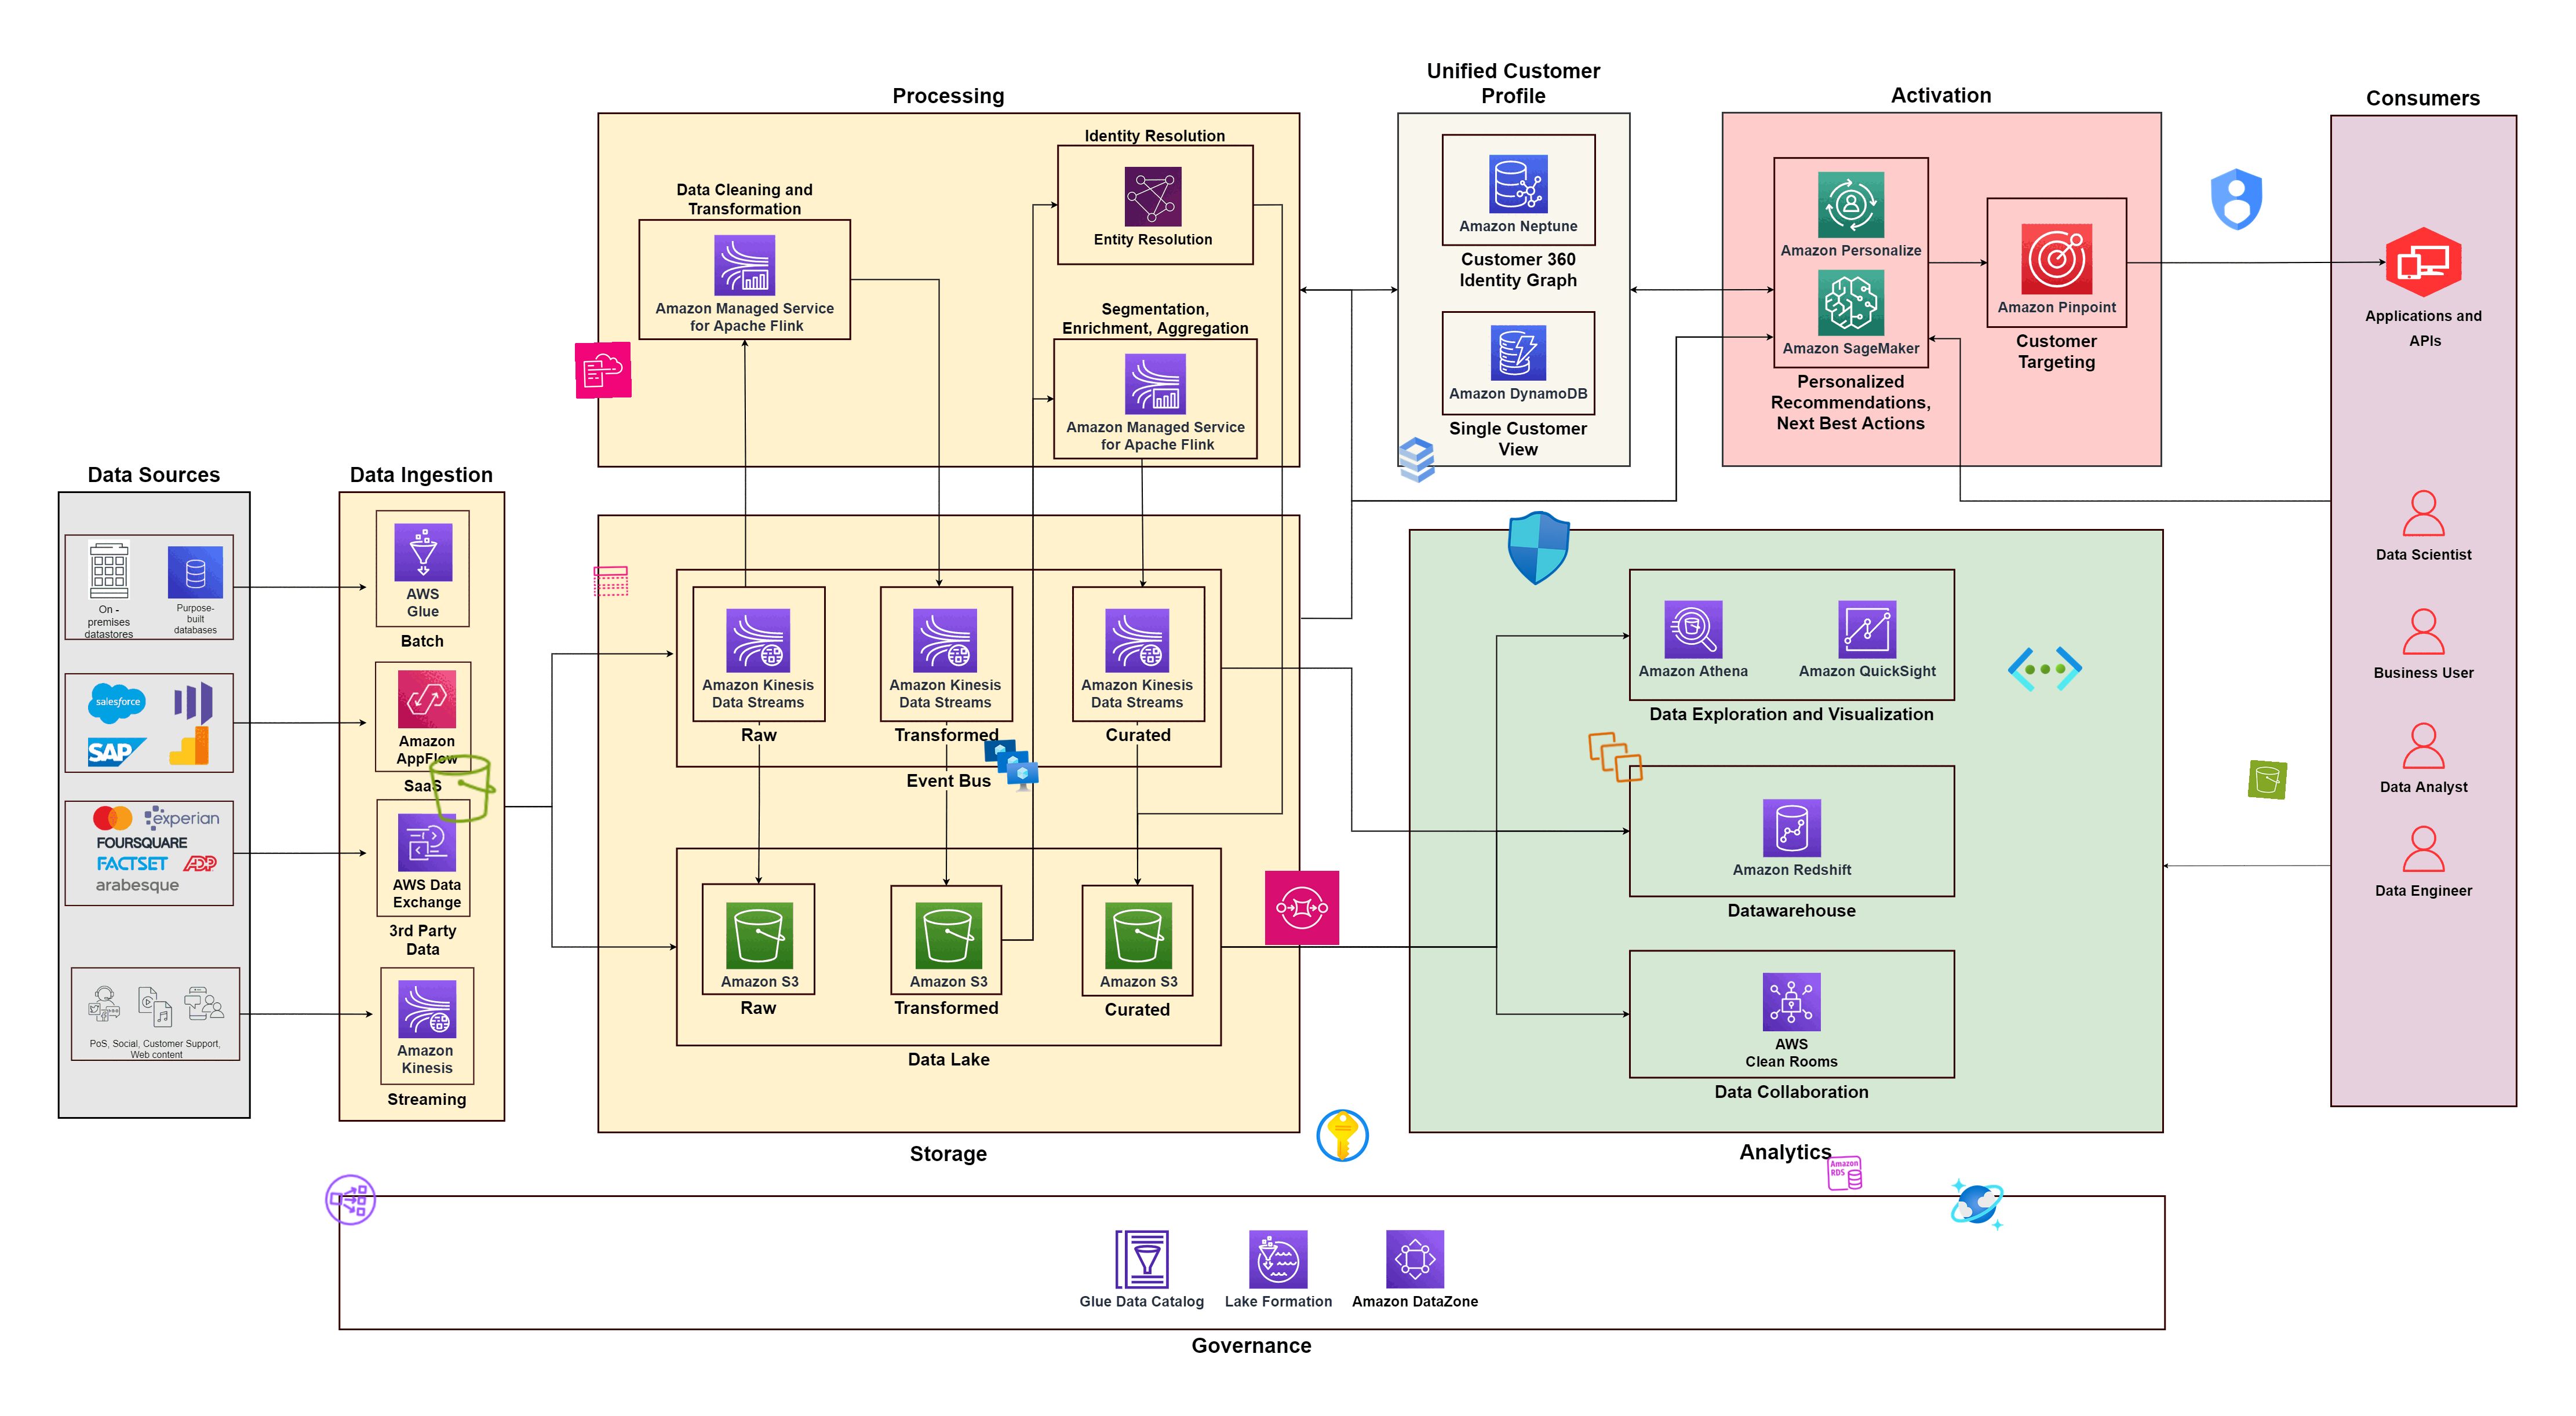aws_amazon_simple_queue_service: (1264, 870, 1339, 945)
aws_amazon_simple_storage_service: (2248, 760, 2288, 800)
aws_aurora_amazon_rds_instance: (1824, 1153, 1864, 1193)
aws_cloudformation: (574, 342, 633, 399)
aws_ec2_instances: (1585, 727, 1646, 788)
aws_elastic_load_balancing_network_load_balancer: (321, 1170, 380, 1229)
aws_simple_notification_service_topic: (591, 562, 630, 600)
aws_simple_storage_service_bucket: (424, 748, 502, 828)
azure_cosmos_db: (1948, 1175, 2006, 1233)
azure_key_vaults: (1315, 1107, 1371, 1163)
azure_network_security_groups: (1498, 507, 1578, 588)
azure_virtual_networks: (2007, 631, 2084, 708)
azure_vm_scale_sets: (982, 736, 1039, 795)
gcp_cloud_sql: (1387, 431, 1448, 490)
gcp_identity_and_access_management: (2199, 160, 2276, 237)
